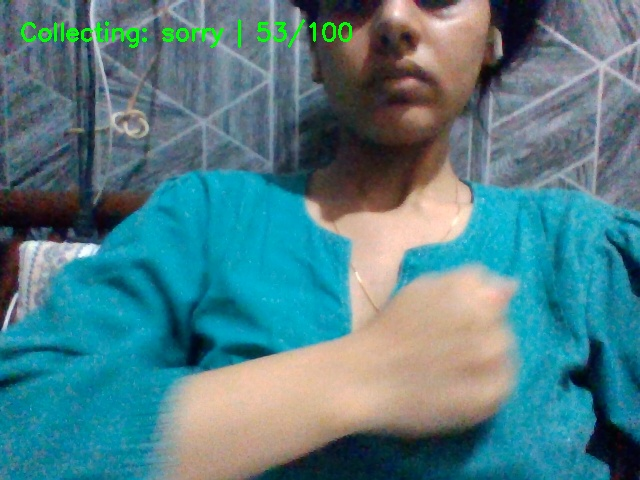sorry: (336, 255, 530, 446)
